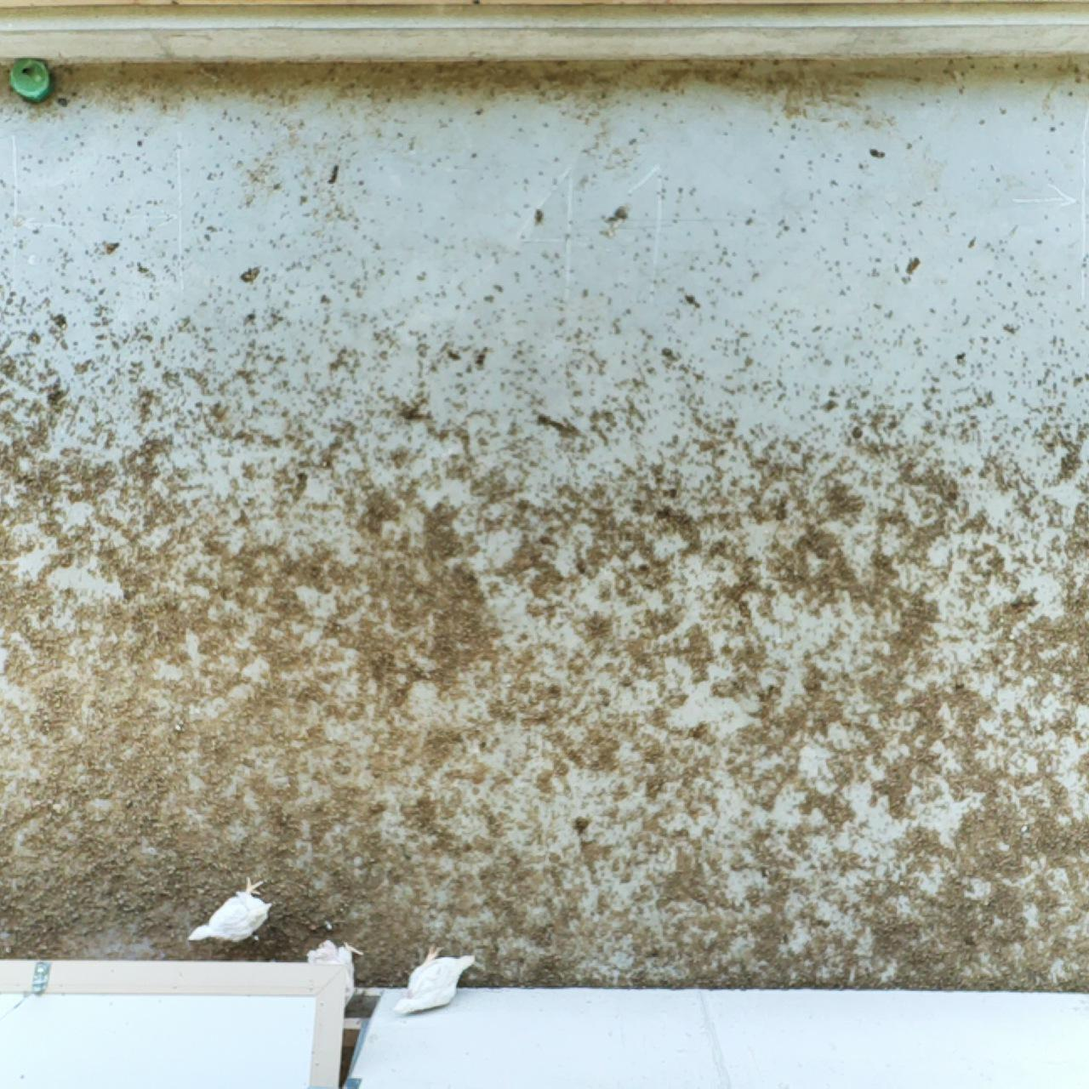chicken: (184, 873, 276, 951), (390, 940, 479, 1018), (301, 933, 366, 1011)
